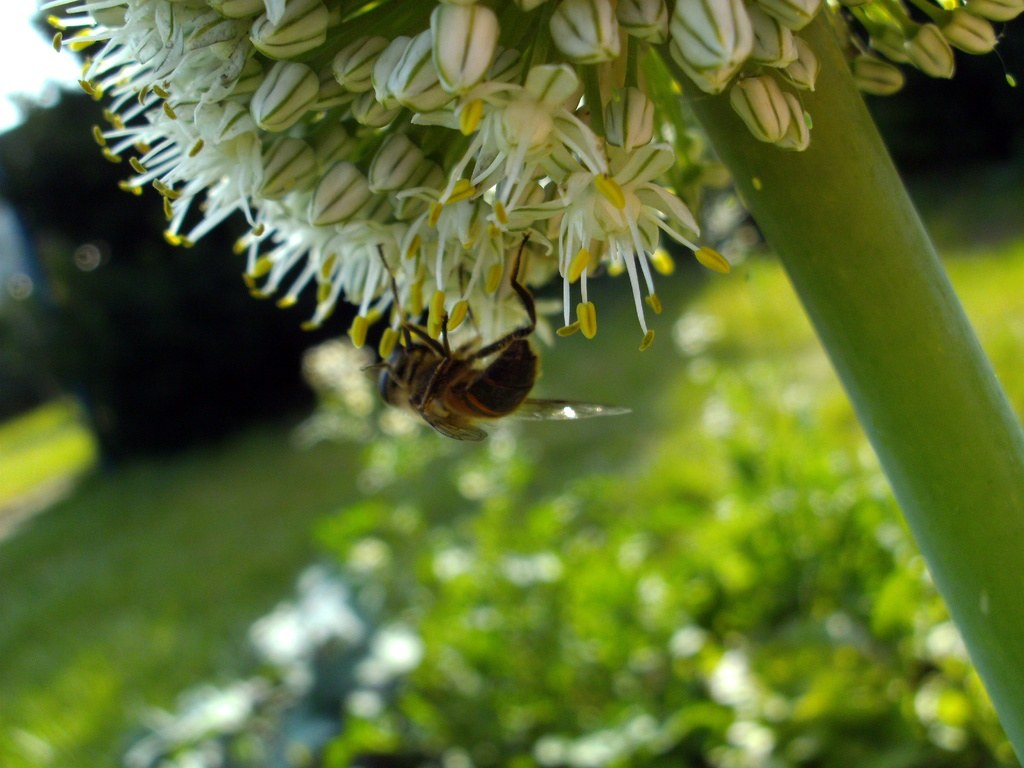bee: (362, 227, 633, 447)
insect: (56, 0, 991, 369), (368, 289, 545, 455)
